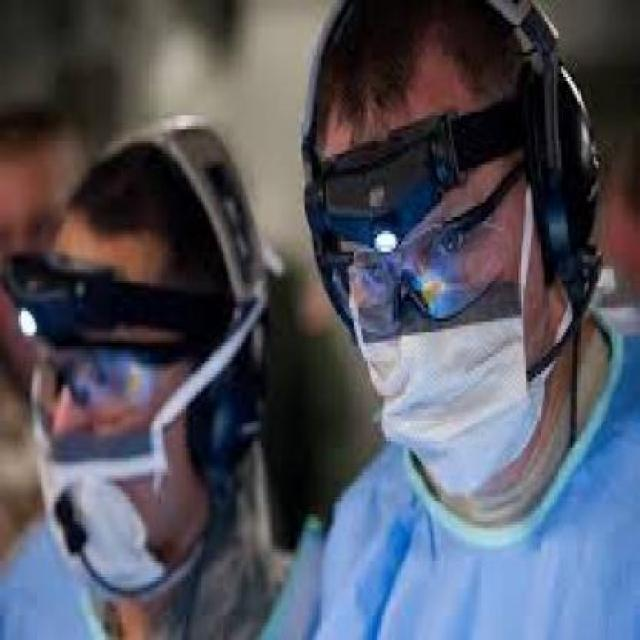Mask: (352, 336, 553, 487), (37, 466, 152, 591)
Protective Glasses: (311, 224, 518, 344), (27, 332, 162, 422)
